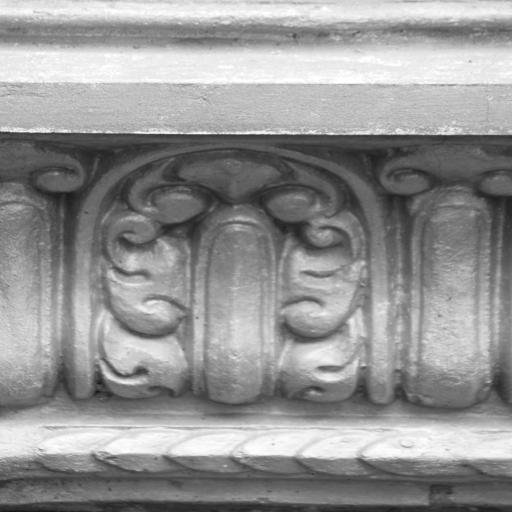la: (90, 144, 380, 402), (383, 149, 512, 407), (0, 147, 93, 401)
